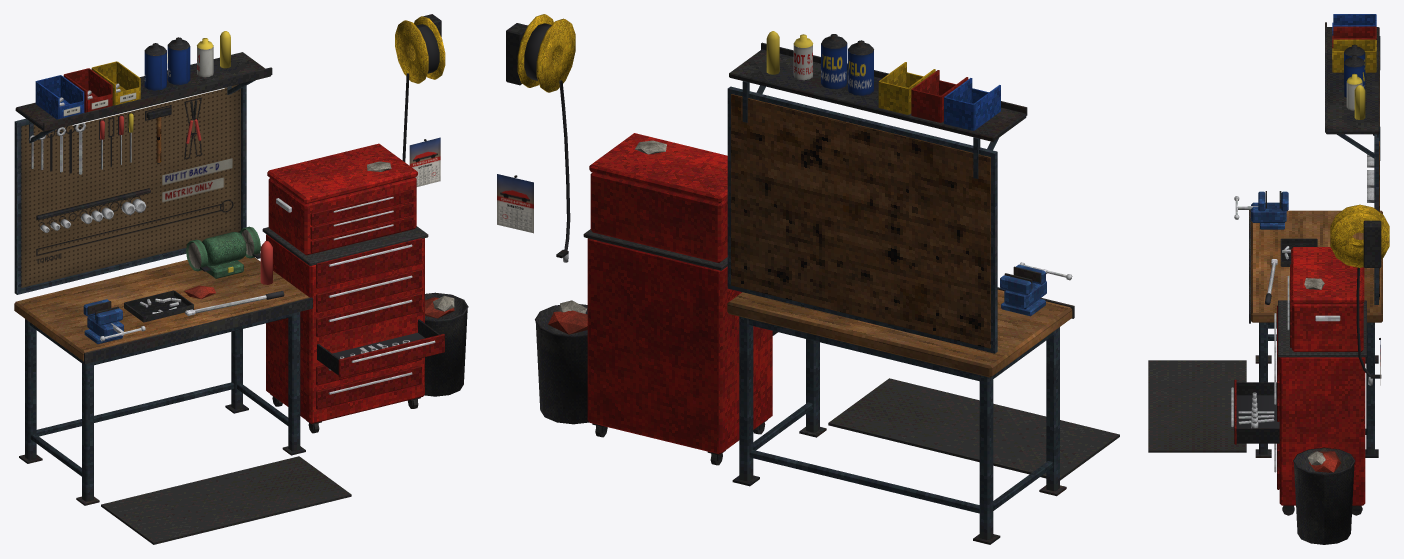
File: station_tools.glb
3 views of the same model, side by side, from view 1: azimuth 30°, elevation 25°; view 2: azimuth 150°, elevation 25°; view 3: azimuth 270°, elevation 25° (orthographic). The views are drawn at different scales.
Parts seen in each view (by area): view 1: Tl_Pegboard, Tl_Top, Tl_Cab, Tl_FloorMat, Tl_ChestLid, Tl_Chest, Tl_Bin, Tl_TopEdge, Tl_Drawer_5, Tl_Shelf, Tl_ReelDrum, Tl_ShelfLip (+26 smaller); view 2: Tl_PegBack, Tl_Cab, Tl_FloorMat, Tl_Top, Tl_Chest, Tl_ChestLid, Tl_Bin, Tl_Shelf, Tl_ReelDrum, Tl_Leg_-1_-0.06, Tl_Leg_+1_-0.06, Tl_Leg_-1_-0.66 (+18 smaller); view 3: Tl_Cab, Tl_FloorMat, Tl_Top, Tl_Bin, Tl_ChestLid, Tl_Chest, Tl_Shelf, Tl_ReelDrum, Tl_CabTop, Tl_Leg_+1_-0.06, Tl_DrawerFloor, Tl_ReelBracket (+13 smaller).
Part boxes in pixels (x1,y1,x2,y2): Tl_Pegboard: (21, 84, 240, 287); Tl_Top: (14, 256, 309, 361); Tl_Cab: (266, 234, 424, 423); Tl_FloorMat: (101, 456, 351, 544); Tl_ChestLid: (267, 143, 417, 203); Tl_Chest: (268, 177, 416, 255); Tl_Bin: (424, 292, 468, 396); Tl_TopEdge: (84, 297, 312, 363); Tl_Drawer_5: (316, 238, 421, 288); Tl_Shelf: (15, 52, 270, 131); Tl_ReelDrum: (395, 16, 445, 83); Tl_ShelfLip: (43, 67, 272, 130); Tl_PegBack: (731, 94, 990, 348); Tl_Cab: (587, 238, 772, 454); Tl_FloorMat: (828, 378, 1119, 480); Tl_Top: (727, 289, 1072, 377); Tl_Chest: (590, 172, 727, 262); Tl_ChestLid: (589, 133, 727, 203); Tl_Bin: (535, 304, 589, 424); Tl_Shelf: (729, 49, 1026, 141); Tl_ReelDrum: (517, 14, 575, 92); Tl_Leg_-1_-0.06: (979, 375, 993, 539); Tl_Leg_+1_-0.06: (739, 316, 753, 481); Tl_Leg_-1_-0.66: (1046, 327, 1059, 491); Tl_Cab: (1279, 357, 1365, 505); Tl_FloorMat: (1148, 360, 1246, 452); Tl_Top: (1251, 210, 1382, 322); Tl_Bin: (1293, 447, 1355, 544); Tl_ChestLid: (1291, 247, 1364, 303); Tl_Chest: (1292, 303, 1363, 351); Tl_Shelf: (1326, 27, 1379, 134); Tl_ReelDrum: (1330, 204, 1389, 267); Tl_CabTop: (1278, 300, 1366, 357); Tl_Leg_+1_-0.06: (1366, 322, 1374, 454); Tl_DrawerFloor: (1236, 395, 1279, 428); Tl_ReelBracket: (1363, 220, 1381, 267).
Size of the model in its own units: 2.59 by 2.27 by 1.35.
27 materials, 23 textured.
